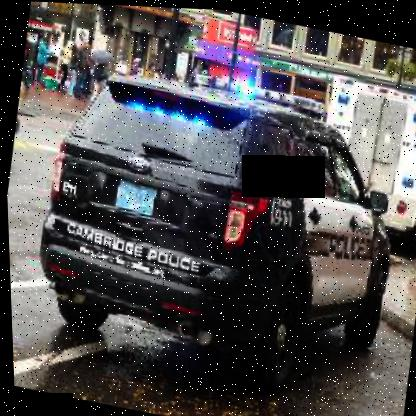emergency: (12, 39, 415, 415)
